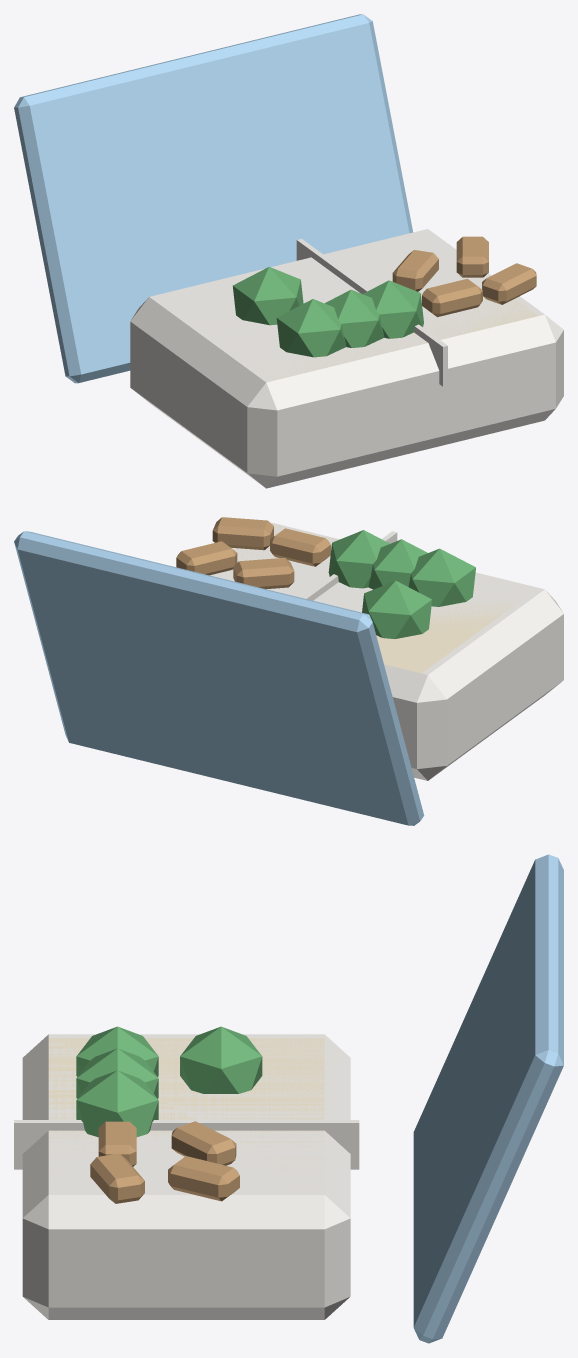
File: prop_lunch_tupper_01.glb
3 views of the same model, one above another, from view 1: azimuth 30°, elevation 25°; view 2: azimuth 150°, elevation 25°; view 3: azimuth 270°, elevation 25° (orthographic). The views are drawn at different scales.
Parts seen in each view (by area): view 1: prop_lunch_tupper_01_body; view 2: prop_lunch_tupper_01_body; view 3: prop_lunch_tupper_01_body.
Boxes of the visible parts, x1,y1,x2,y2 form: prop_lunch_tupper_01_body: [14, 14, 563, 488]; prop_lunch_tupper_01_body: [14, 517, 563, 825]; prop_lunch_tupper_01_body: [14, 854, 563, 1343].
Bounding box in the file's own units: 0.28 × 0.1877 × 0.3186.
